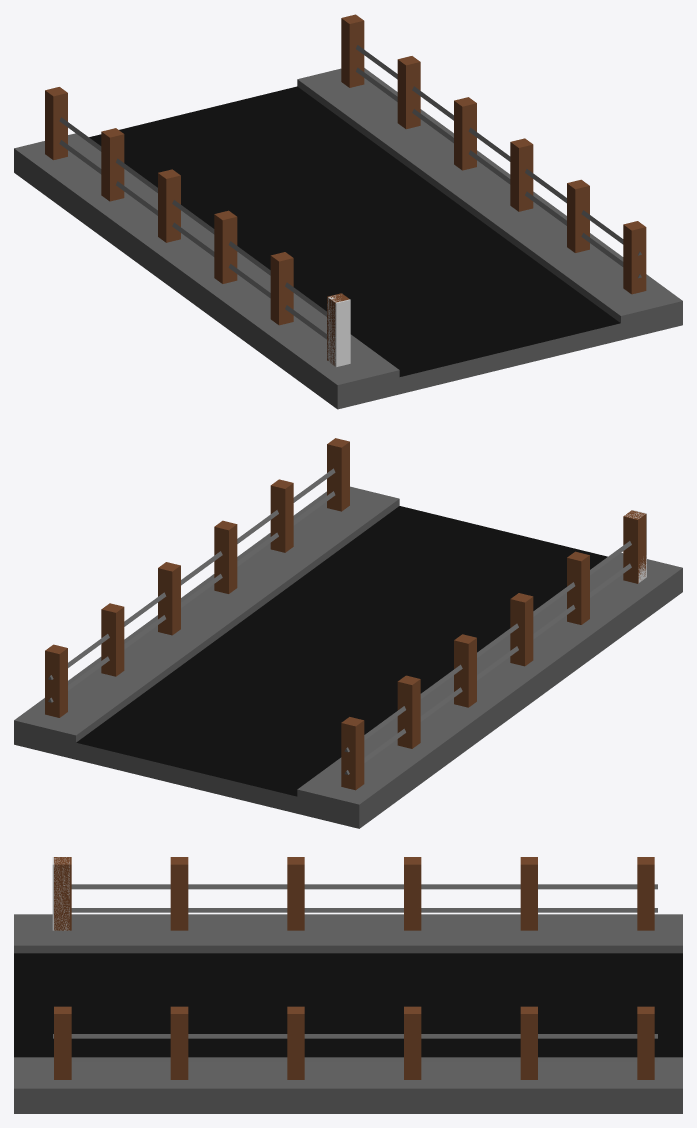
File: Bridge.fbx
3 renders of one model, top to bottom at view 1: azimuth 30°, elevation 25°; view 2: azimuth 150°, elevation 25°; view 3: azimuth 270°, elevation 25°, orthographic. The views are drawn at different scales.
Parts seen in each view (by area): view 1: Cube, Cube.006, Cube.004, Cube.001, Cube.007, Cube.005, Cube.002, Cube.003, Cylinder.001, Cylinder, Cylinder.003, Cylinder.002; view 2: Cube, Cube.007, Cube.004, Cube.006, Cube.001, Cube.002, Cube.005, Cylinder.003, Cylinder.002, Cylinder.001, Cylinder; view 3: Cube, Cylinder.003, Cube.001, Cube.002, Cube.004, Cube.007, Cube.005, Cube.006, Cylinder, Cylinder.001, Cylinder.002, Cube.003.
Boxes of the visible parts, box(x1,y1,x2,y2) form: Cube: box(14, 68, 682, 409); Cube.006: box(101, 56, 420, 201); Cube.004: box(214, 138, 533, 283); Cube.001: box(270, 179, 589, 325); Cube.007: box(45, 14, 364, 160); Cube.005: box(158, 97, 476, 242); Cube.002: box(327, 221, 646, 365); Cube.003: box(327, 295, 350, 367); Cylinder.001: box(356, 67, 641, 278); Cylinder: box(356, 45, 641, 255); Cylinder.003: box(59, 117, 326, 316); Cylinder.002: box(59, 140, 326, 339); Cube: box(14, 486, 682, 828); Cube.007: box(45, 644, 364, 790); Cube.004: box(214, 520, 533, 666); Cube.006: box(101, 603, 420, 748); Cube.001: box(270, 479, 589, 624); Cube.002: box(327, 438, 646, 583); Cube.005: box(158, 562, 476, 707); Cylinder.003: box(344, 541, 631, 752); Cylinder.002: box(344, 563, 631, 774); Cylinder.001: box(48, 491, 335, 702); Cylinder: box(48, 468, 335, 679); Cube: box(14, 914, 682, 1113); Cylinder.003: box(71, 884, 657, 889); Cube.001: box(170, 857, 188, 1079); Cube.002: box(54, 857, 71, 1079); Cube.004: box(287, 857, 304, 1079); Cube.007: box(637, 857, 654, 1079); Cube.005: box(404, 857, 421, 1079); Cube.006: box(520, 857, 537, 1079); Cylinder: box(53, 1034, 657, 1038); Cylinder.001: box(53, 1057, 657, 1061); Cylinder.002: box(71, 908, 657, 912); Cube.003: box(52, 857, 69, 930).
Size of the model in its own units: 962 by 235 by 1562.
